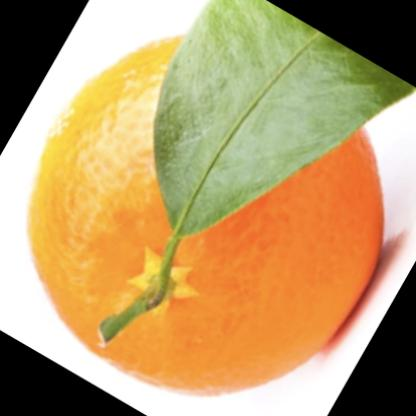fresh: (30, 33, 382, 392)
